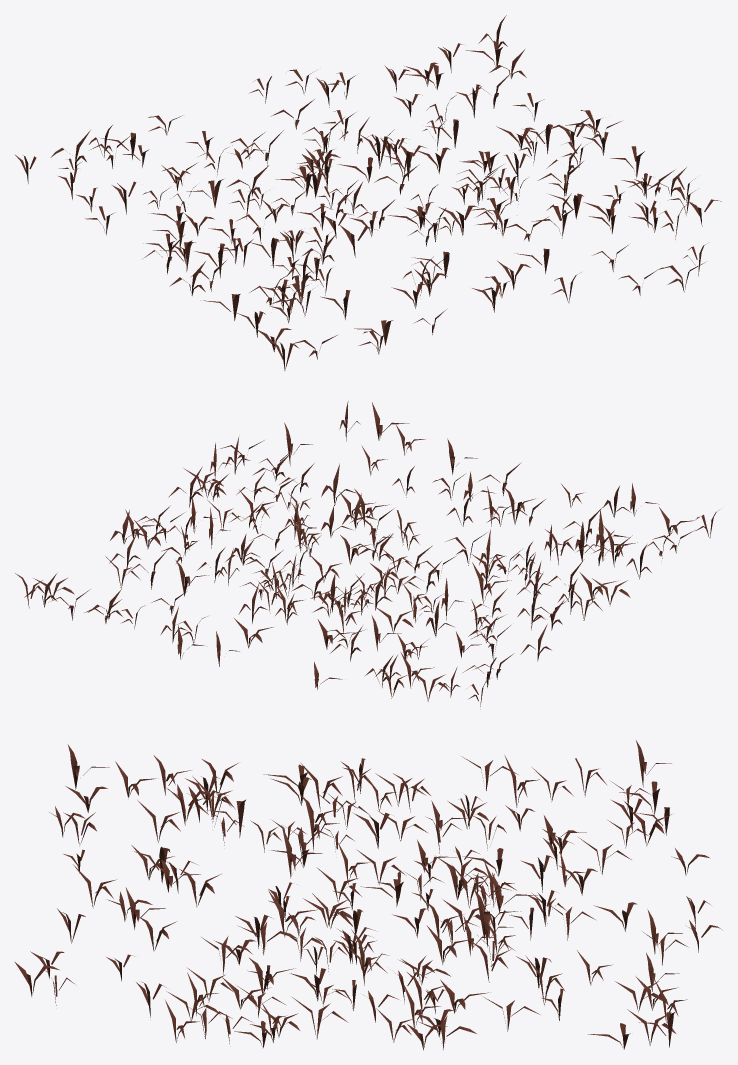
File: environment_grass_plane_a.fbx
3 renders of one model, top to bottom at view 1: azimuth 30°, elevation 25°; view 2: azimuth 150°, elevation 25°; view 3: azimuth 270°, elevation 25°, orthographic. The views are drawn at different scales.
Visible parts, largest first — view 1: Grass_plane; view 2: Grass_plane; view 3: Grass_plane.
Boxes of the visible parts, x1,y1,x2,y2 form: Grass_plane: (15,15,721,370); Grass_plane: (15,401,718,709); Grass_plane: (14,740,721,1050).
Bounding box in the file's own units: 2043 × 179 × 2219.
